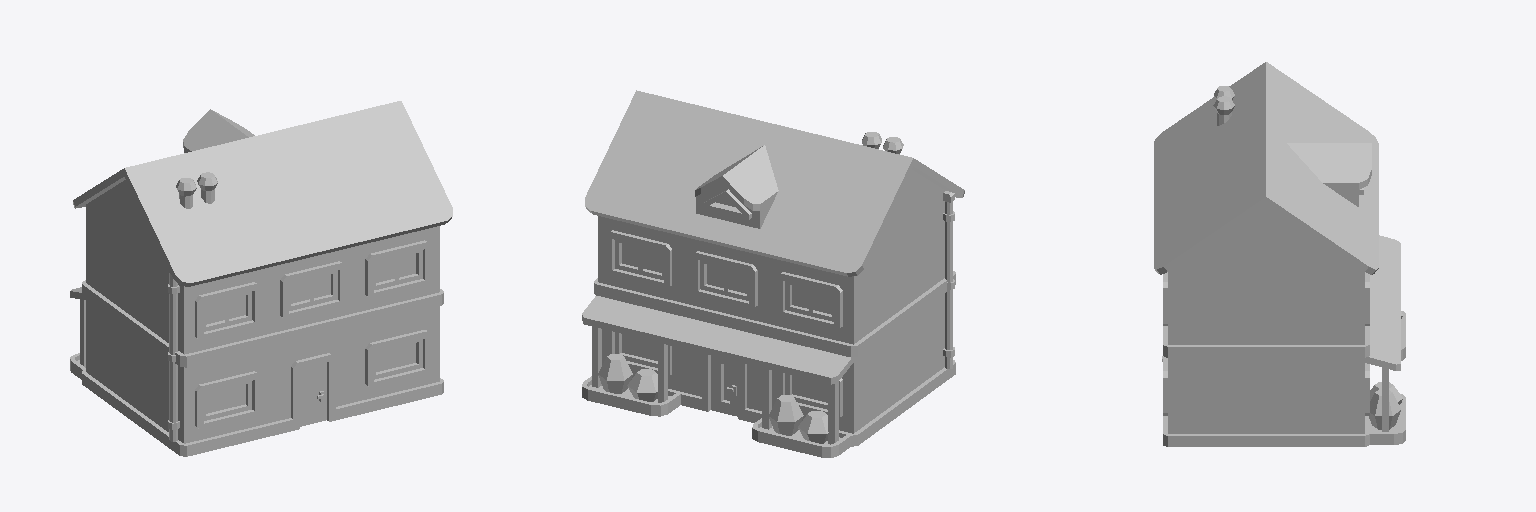
The model's file is suburban_building-type-e.obj.
3 renders of one model, left to right at view 1: azimuth 30°, elevation 25°; view 2: azimuth 150°, elevation 25°; view 3: azimuth 270°, elevation 25°, orthographic.
Visible parts, largest first — view 1: building-type-e; view 2: building-type-e; view 3: building-type-e.
Boxes of the visible parts, box(x1,y1,x2,y2) form: building-type-e: box(70, 101, 452, 456); building-type-e: box(582, 90, 964, 457); building-type-e: box(1154, 62, 1405, 446).
Size of the model in its own units: 1.3 by 1.14 by 1.03.